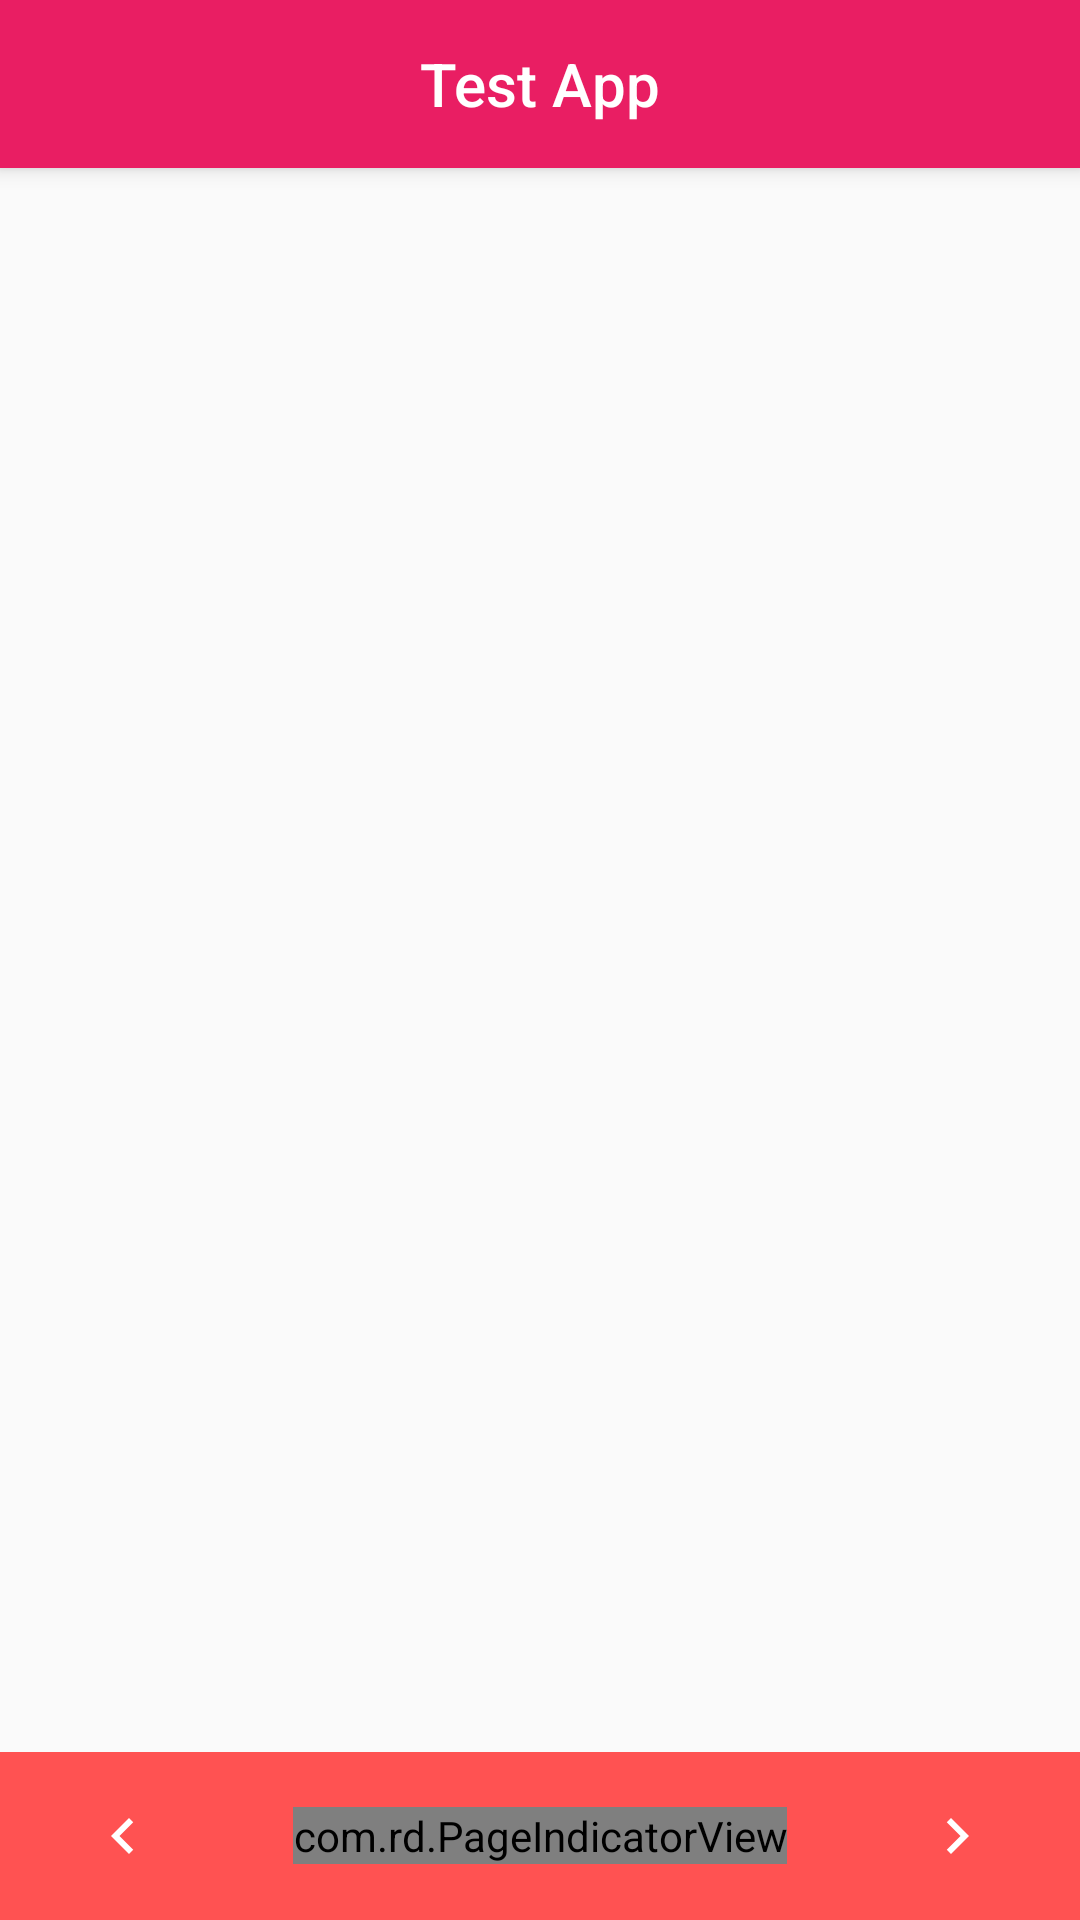

Icon click points for this 1080×1920 phone screenshot, format [x,y]:
chevron left: [122,1836]
chevron right: [958,1836]
